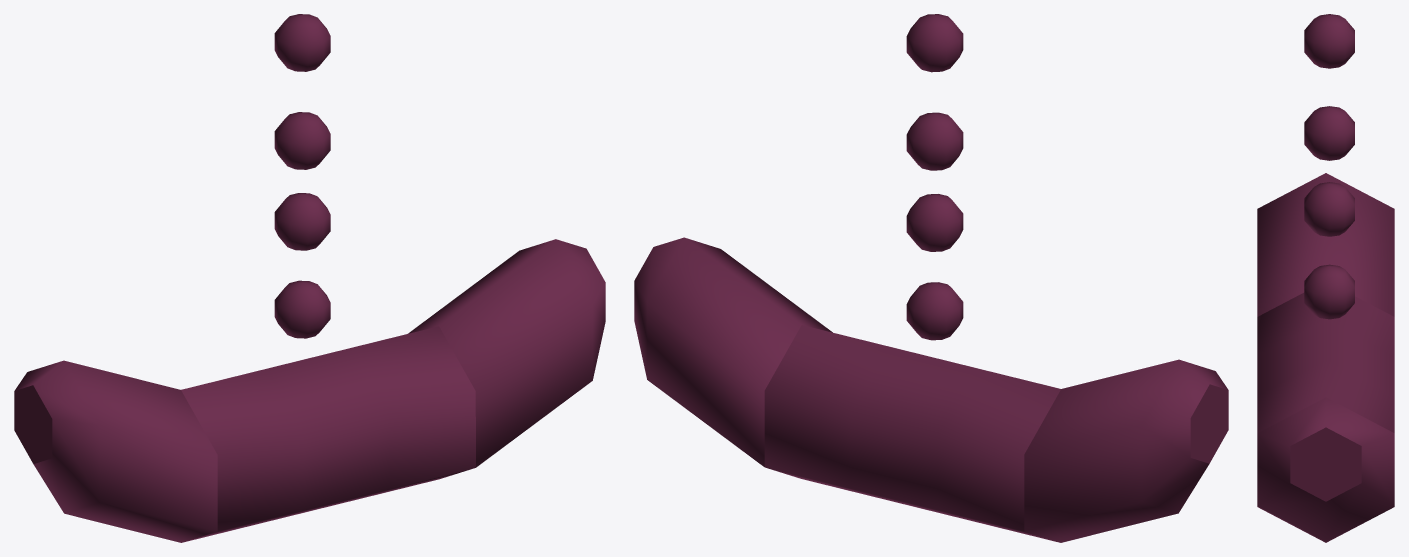
File: pendulo2colo.fbx
The picture shows the model from 3 angles, left to right: view 1: azimuth 30°, elevation 25°; view 2: azimuth 150°, elevation 25°; view 3: azimuth 270°, elevation 25°; orthographic projection. The views are drawn at different scales.
Parts seen in each view (by area): view 1: Pnedulo, boullependulo1, boullependulo2, boullependulo3_2, boullependulo3; view 2: Pnedulo, boullependulo2, boullependulo3_2, boullependulo1, boullependulo3; view 3: Pnedulo, boullependulo2, boullependulo3, boullependulo1, boullependulo3_2.
Part boxes in pixels (bbox=[...]): Pnedulo: bbox=[14, 239, 605, 542]; boullependulo1: bbox=[274, 14, 330, 71]; boullependulo2: bbox=[274, 112, 330, 169]; boullependulo3_2: bbox=[274, 280, 330, 338]; boullependulo3: bbox=[274, 193, 330, 250]; Pnedulo: bbox=[634, 237, 1228, 542]; boullependulo2: bbox=[906, 112, 963, 170]; boullependulo3_2: bbox=[906, 282, 963, 340]; boullependulo1: bbox=[906, 14, 963, 72]; boullependulo3: bbox=[906, 194, 963, 251]; Pnedulo: bbox=[1257, 173, 1394, 542]; boullependulo2: bbox=[1304, 106, 1354, 160]; boullependulo3: bbox=[1304, 182, 1354, 236]; boullependulo1: bbox=[1304, 14, 1354, 68]; boullependulo3_2: bbox=[1304, 264, 1354, 319].
Bounding box in the file's own units: 431 × 369 × 98.73.
